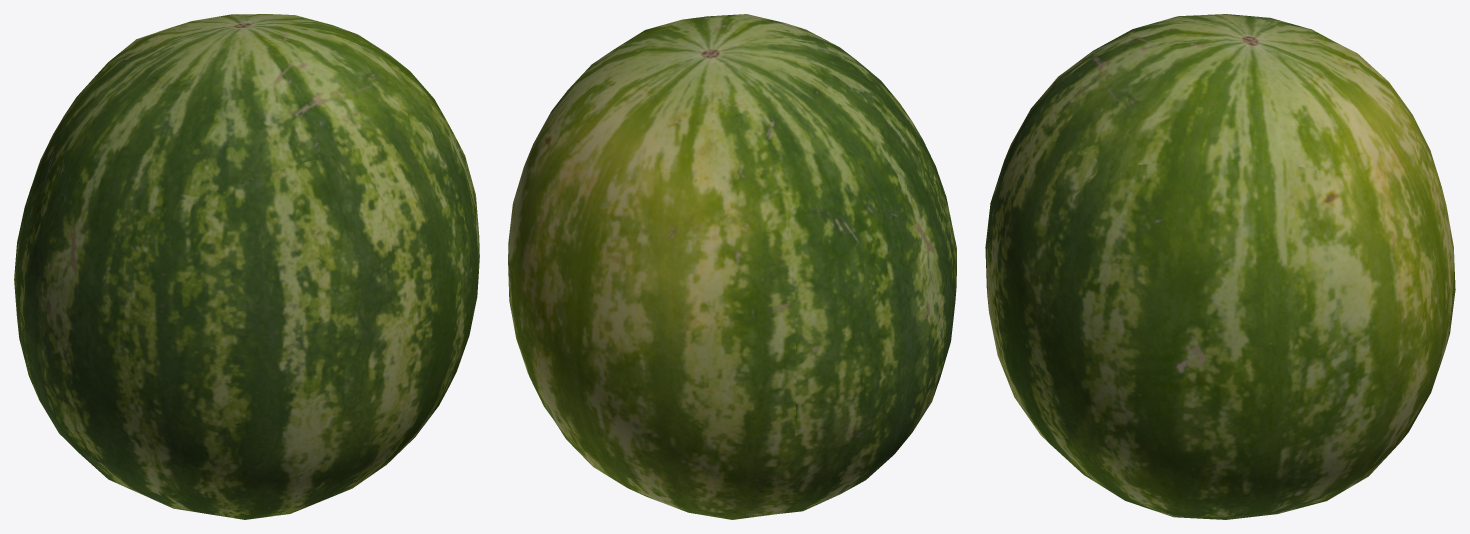
The model's file is Watermelon.fbx.
The picture shows the model from 3 angles, left to right: view 1: azimuth 30°, elevation 25°; view 2: azimuth 150°, elevation 25°; view 3: azimuth 270°, elevation 25°; orthographic projection. The views are drawn at different scales.
Visible parts, largest first — view 1: Watermelon; view 2: Watermelon; view 3: Watermelon.
Boxes of the visible parts, x1,y1,x2,y2 form: Watermelon: (14,14,479,519); Watermelon: (508,14,956,519); Watermelon: (985,14,1455,519).
Bounding box in the file's own units: 2056 × 2218 × 2033.
